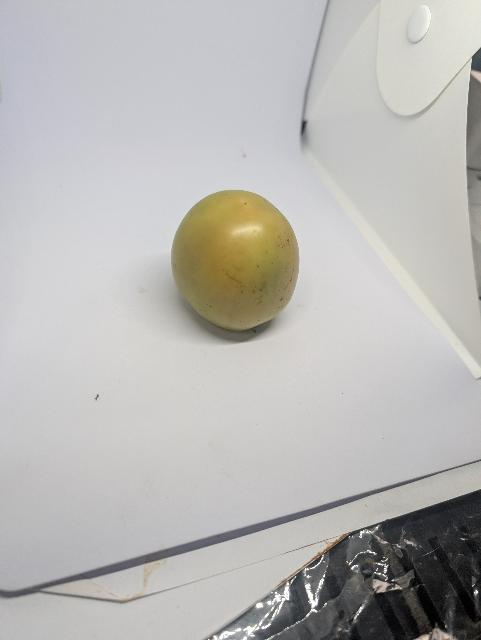breaker: (168, 190, 307, 330)
